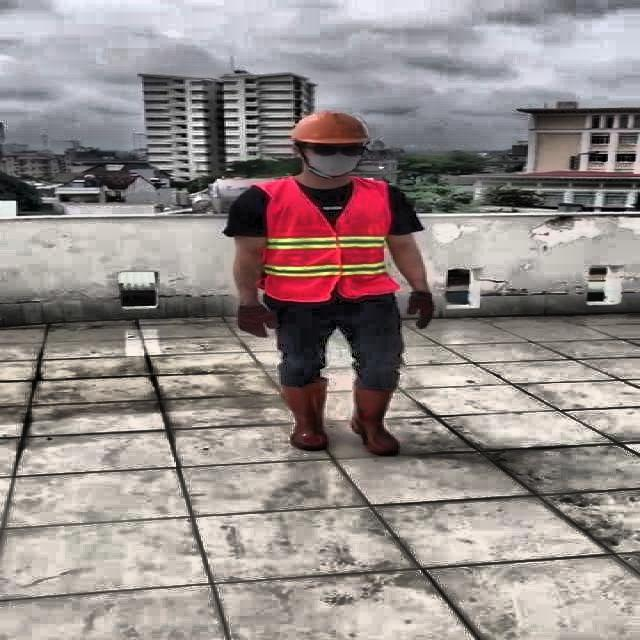safety_helmet: (287, 109, 372, 148)
safety_jacket: (260, 177, 394, 298)
